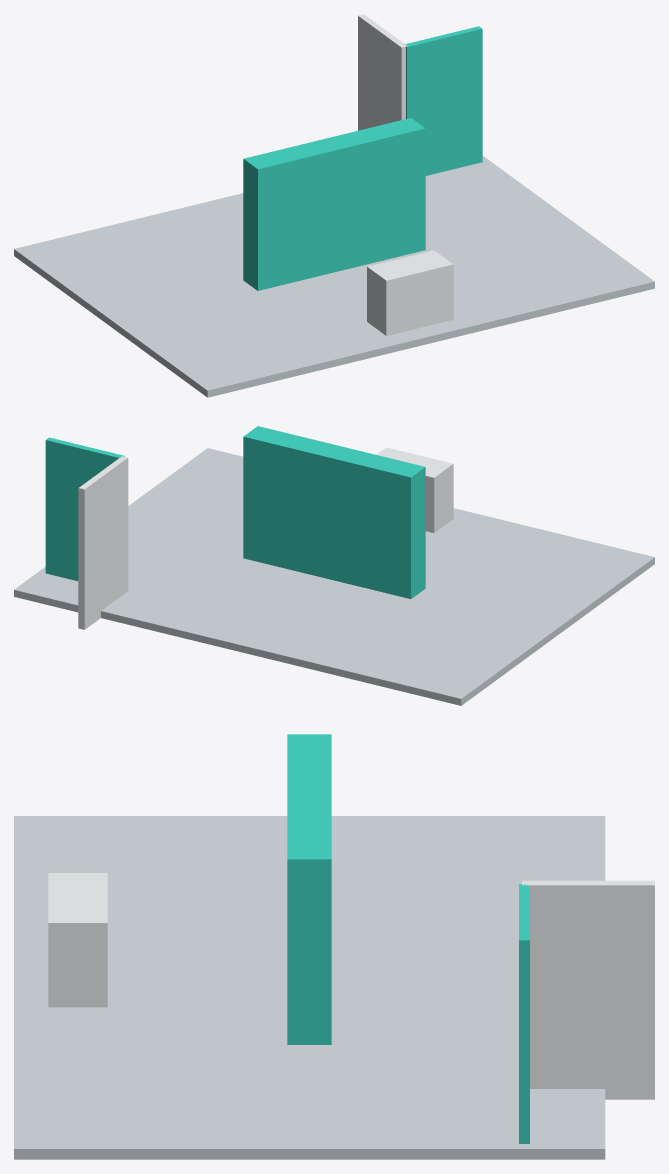
3 renders of one model, top to bottom at view 1: azimuth 30°, elevation 25°; view 2: azimuth 150°, elevation 25°; view 3: azimuth 270°, elevation 25°, orthographic. The views are drawn at different scales.
Parts seen in each view (by area): view 1: Exhibition Booth Concept; view 2: Exhibition Booth Concept; view 3: Exhibition Booth Concept.
Part boxes in pixels (x1,y1,x2,y2): Exhibition Booth Concept: [14, 14, 654, 397]; Exhibition Booth Concept: [14, 426, 654, 705]; Exhibition Booth Concept: [14, 734, 654, 1159].
Size of the model in its own units: 8 by 2.4 by 6.51.
